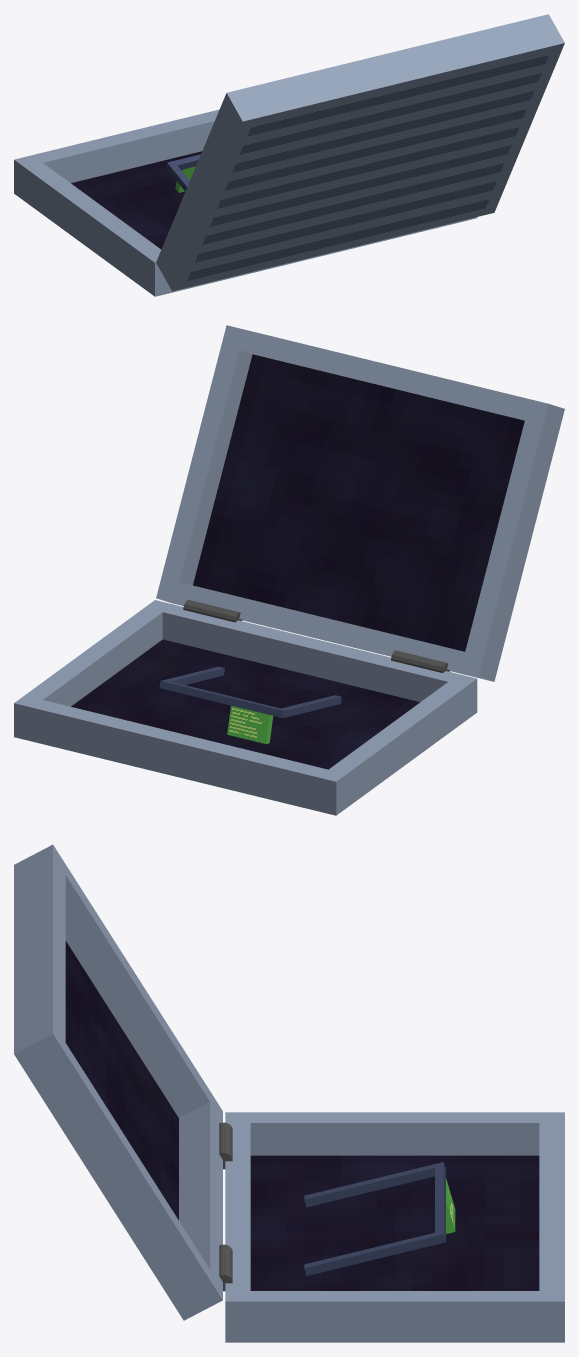
The model's file is visorCase.gltf.
The picture shows the model from 3 angles, top to bottom: view 1: azimuth 30°, elevation 25°; view 2: azimuth 150°, elevation 25°; view 3: azimuth 270°, elevation 25°; orthographic projection. The views are drawn at different scales.
Parts seen in each view (by area): view 1: cuboid (×3); view 2: cuboid (×3), cylinder (×2); view 3: cuboid (×3).
Boxes of the visible parts, left/top/right/bottom form: cuboid (×3): left=14, top=14, right=564, bottom=296; cuboid (×3): left=14, top=325, right=564, bottom=815; cylinder (×2): left=183, top=599, right=449, bottom=672; cuboid (×3): left=14, top=844, right=564, bottom=1342.
Bounding box in the file's own units: 0.7759 × 0.59 × 0.9543.
Materials: 3 (3 with a texture image).
